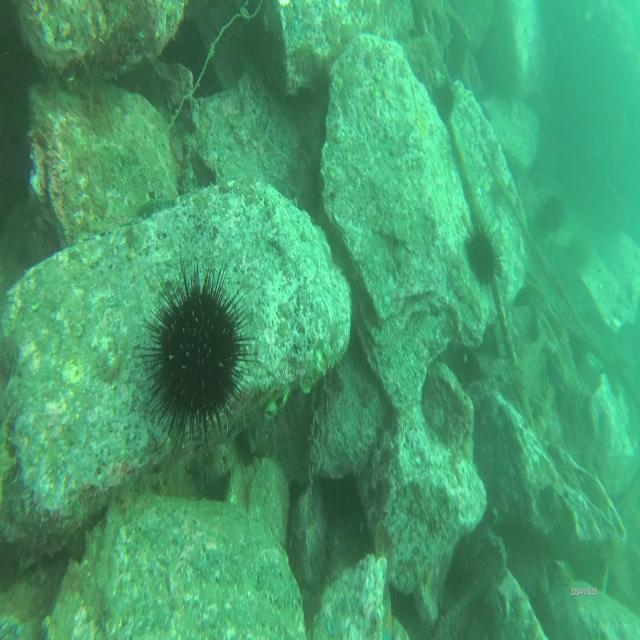echinus: (132, 259, 255, 454), (460, 216, 506, 288), (429, 72, 461, 124), (564, 226, 594, 279), (538, 185, 568, 236)
